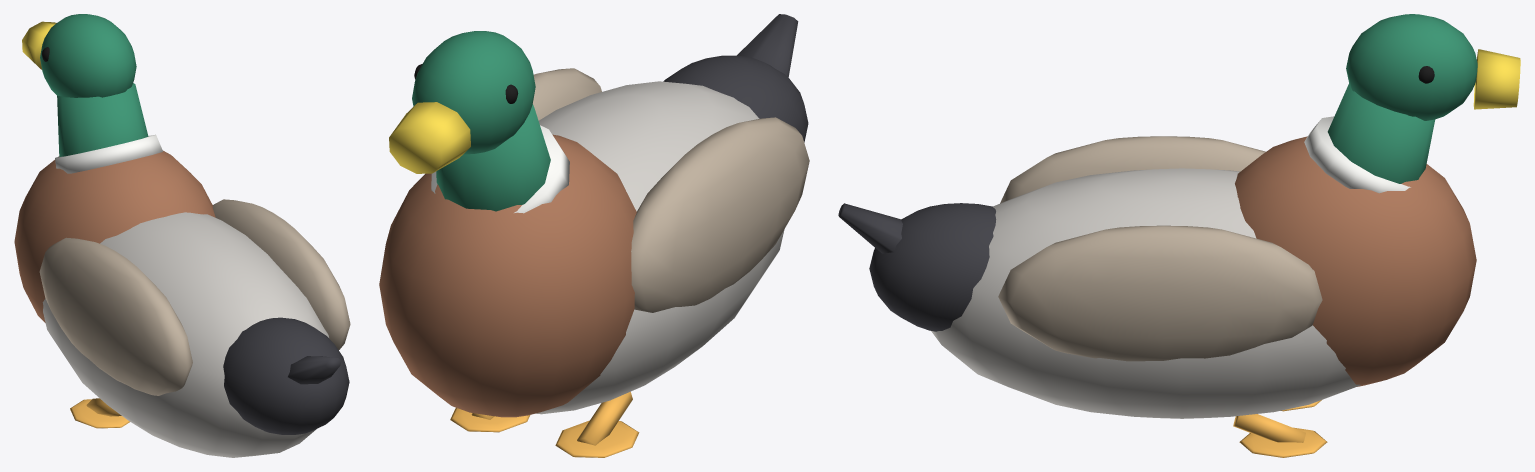
File: ente.glb
3 renders of one model, left to right at view 1: azimuth 30°, elevation 25°; view 2: azimuth 150°, elevation 25°; view 3: azimuth 270°, elevation 25°, orthographic. The views are drawn at different scales.
Parts seen in each view (by area): view 1: Ente; view 2: Ente; view 3: Ente.
Boxes of the visible parts, box(x1,y1,x2,y2) form: Ente: box(14, 14, 350, 457); Ente: box(379, 14, 809, 457); Ente: box(838, 14, 1520, 457).
Size of the model in its own units: 0.314 by 0.491 by 0.7415.
